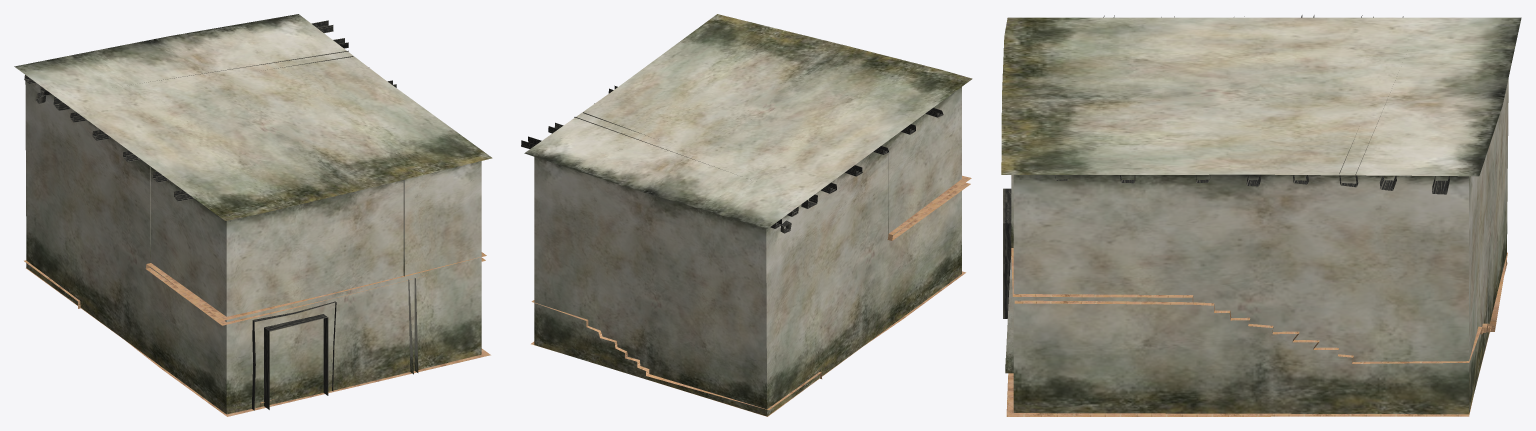
The model's file is interior_stairwell.fbx.
The picture shows the model from 3 angles, left to right: view 1: azimuth 30°, elevation 25°; view 2: azimuth 150°, elevation 25°; view 3: azimuth 270°, elevation 25°; orthographic projection. The views are drawn at different scales.
Visible parts, largest first — view 1: TavernInnWall1, polySurface10, Door_mainframe1, polySurface14, floor, polySurface31_DUP, Interior_partition2; view 2: TavernInnWall1, polySurface10, polySurface14, floor, polySurface31_DUP; view 3: TavernInnWall1, polySurface10, polySurface14, floor, Door_mainframe1, Interior_partition2, polySurface31_DUP.
Boxes of the visible parts, box(x1,y1,x2,y2) form: TavernInnWall1: box(25, 81, 481, 414); polySurface10: box(14, 14, 492, 220); Door_mainframe1: box(251, 301, 336, 410); polySurface14: box(24, 252, 486, 320); floor: box(26, 268, 490, 416); polySurface31_DUP: box(146, 257, 485, 325); Interior_partition2: box(408, 278, 418, 374); TavernInnWall1: box(534, 87, 961, 416); polySurface10: box(524, 14, 972, 228); polySurface14: box(531, 175, 971, 409); floor: box(531, 271, 965, 416); polySurface31_DUP: box(892, 182, 970, 240); TavernInnWall1: box(1013, 79, 1508, 414); polySurface10: box(1001, 17, 1521, 176); polySurface14: box(1011, 248, 1507, 363); floor: box(1006, 262, 1507, 416); Door_mainframe1: box(1003, 188, 1011, 318); Interior_partition2: box(1005, 256, 1013, 373); polySurface31_DUP: box(1014, 300, 1192, 304).
Bounding box in the file's own units: 4938 × 3247 × 6248.
Materials: 2 (2 with a texture image).
